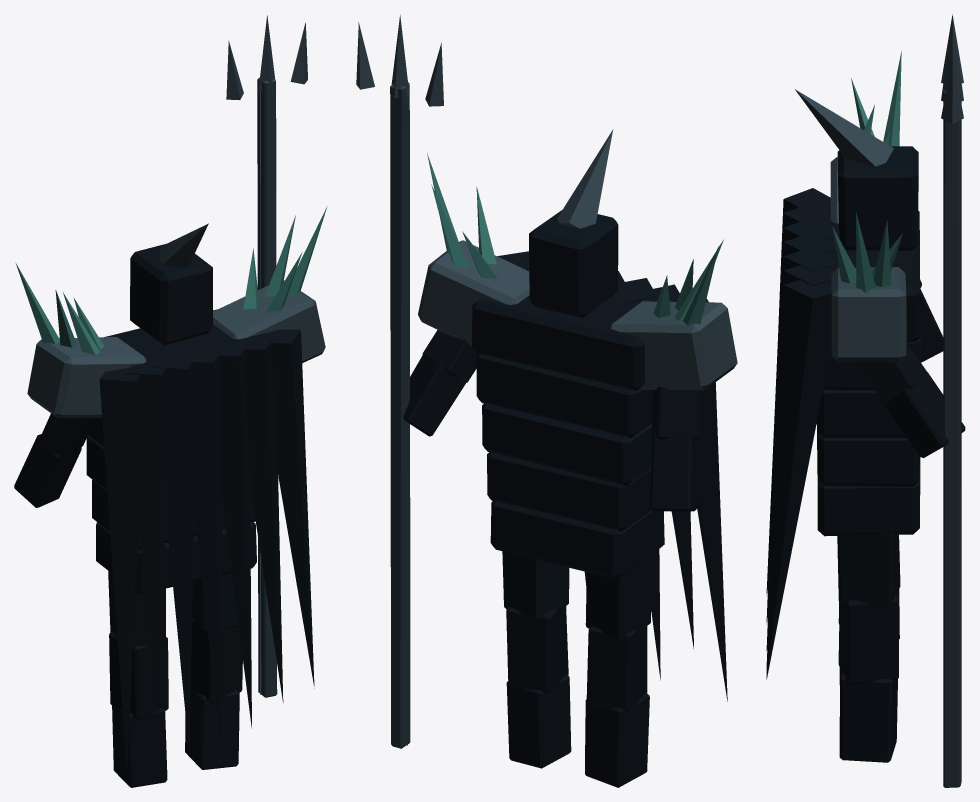
The model's file is inc_mare_guardiao.fbx.
3 views of the same model, side by side, from view 1: azimuth 30°, elevation 25°; view 2: azimuth 150°, elevation 25°; view 3: azimuth 270°, elevation 25° (orthographic). The views are drawn at different scales.
Parts seen in each view (by area): view 1: inc_mare_guardiao; view 2: inc_mare_guardiao; view 3: inc_mare_guardiao.
Part boxes in pixels (x1,y1,x2,y2): inc_mare_guardiao: (14,15,327,787); inc_mare_guardiao: (356,14,737,787); inc_mare_guardiao: (766,14,965,787).
Bounding box in the file's own units: 8.85 × 18.69 × 4.28.
